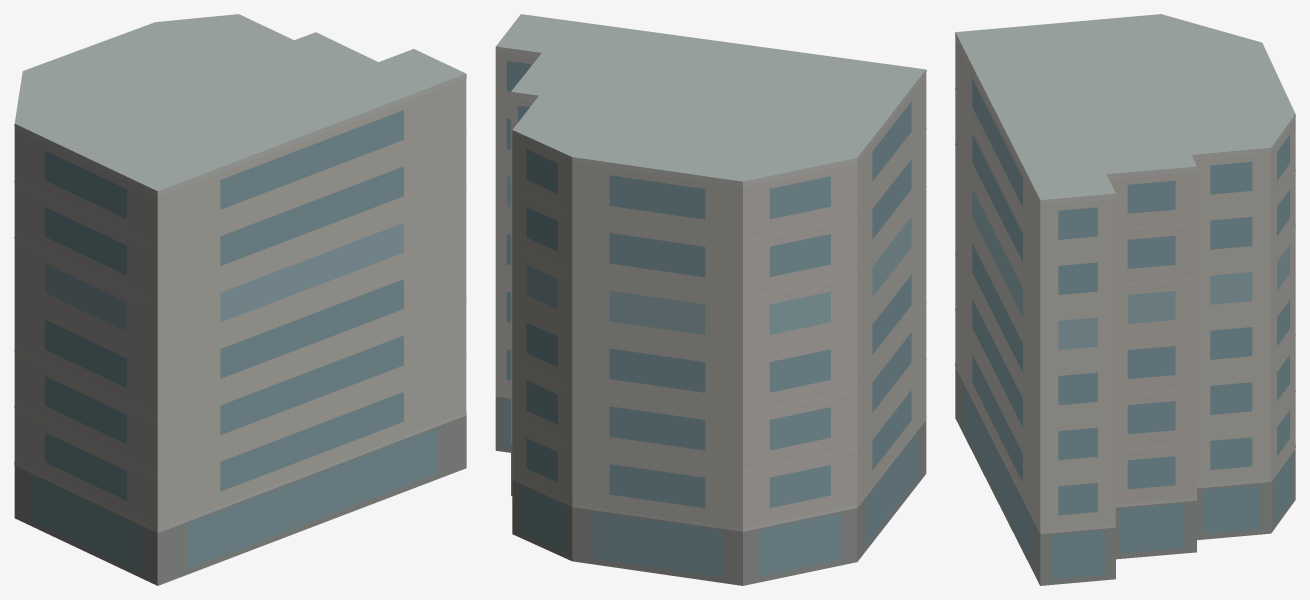
Rendered from survey-upis-32667177.glb.
The picture shows the model from 3 angles, left to right: view 1: azimuth 30°, elevation 25°; view 2: azimuth 150°, elevation 25°; view 3: azimuth 270°, elevation 25°; orthographic projection. The views are drawn at different scales.
Parts seen in each view (by area): view 1: survey-upis-32667177.tmp; view 2: survey-upis-32667177.tmp; view 3: survey-upis-32667177.tmp.
Part boxes in pixels (x1=…): survey-upis-32667177.tmp: x1=14, y1=14, x2=466, y2=585; survey-upis-32667177.tmp: x1=495, y1=14, x2=926, y2=585; survey-upis-32667177.tmp: x1=955, y1=14, x2=1295, y2=585.
Bounding box in the file's own units: 18.96 × 18.3 × 14.66.
